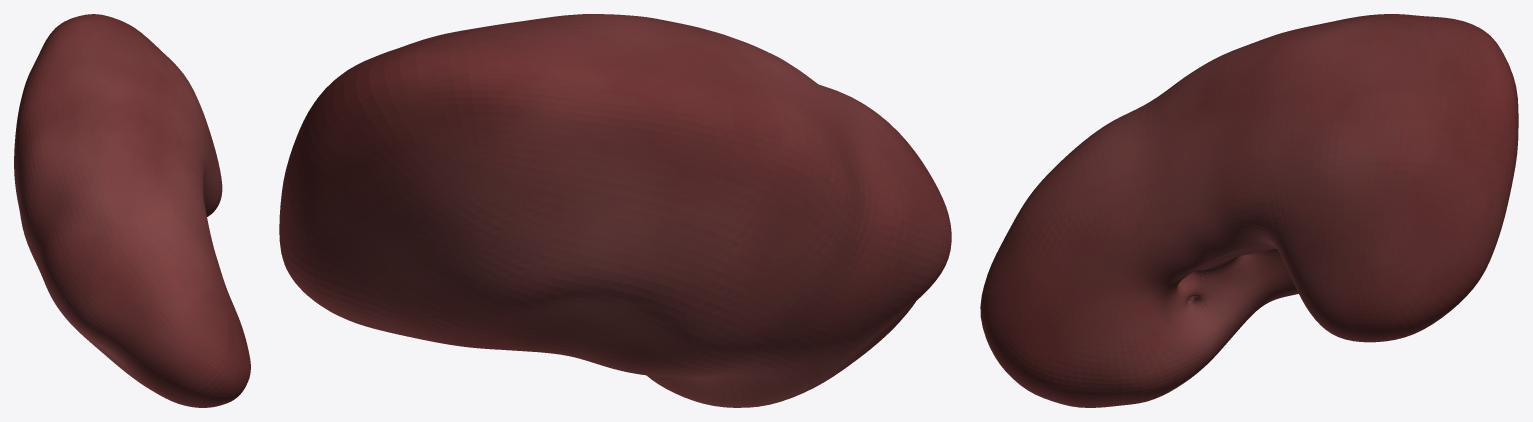
File: 30K_Kidney_Left.OBJ
The picture shows the model from 3 angles, left to right: view 1: azimuth 30°, elevation 25°; view 2: azimuth 150°, elevation 25°; view 3: azimuth 270°, elevation 25°; orthographic projection. The views are drawn at different scales.
Parts seen in each view (by area): view 1: ZBrushPolyMesh3D; view 2: ZBrushPolyMesh3D; view 3: ZBrushPolyMesh3D.
Boxes of the visible parts, x1,y1,x2,y2 form: ZBrushPolyMesh3D: (14,14,250,407); ZBrushPolyMesh3D: (279,14,951,407); ZBrushPolyMesh3D: (980,14,1518,407).
Bounding box in the file's own units: 9.33 × 10.15 × 13.12.
Materials: 1 (1 with a texture image).
